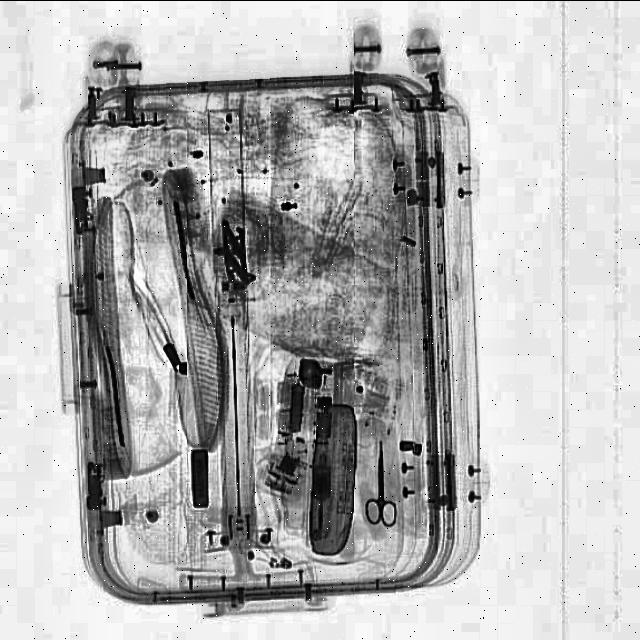Scissors: (364, 439, 400, 528)
